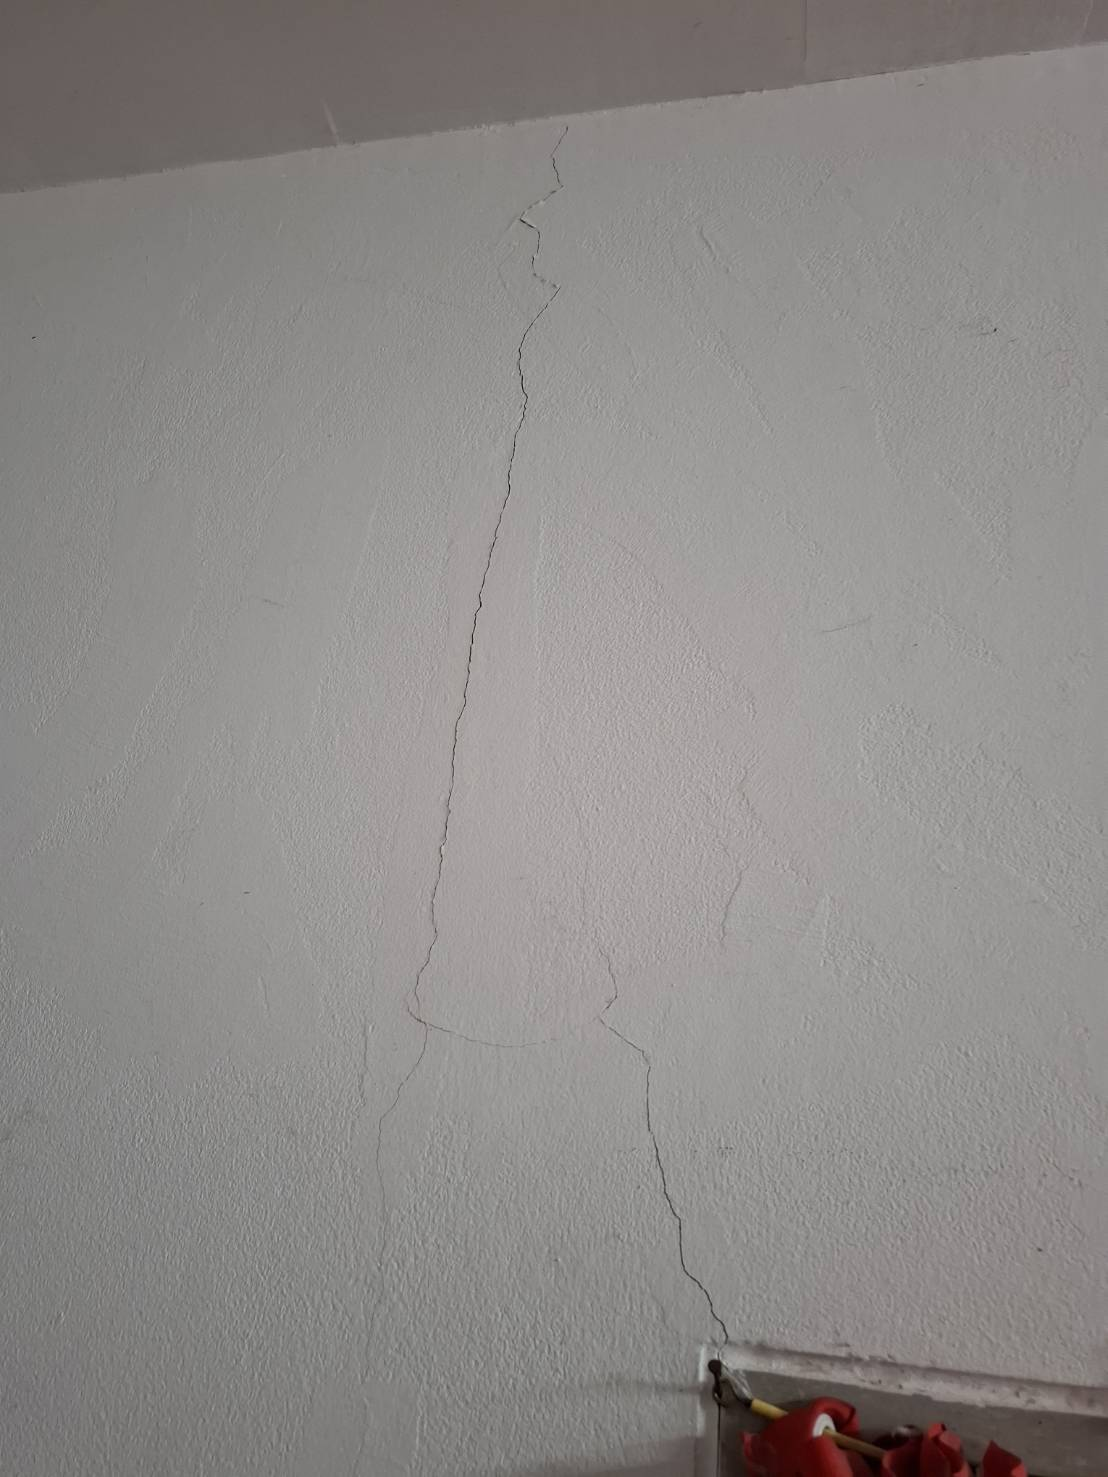Low: (388, 123, 779, 1354)
